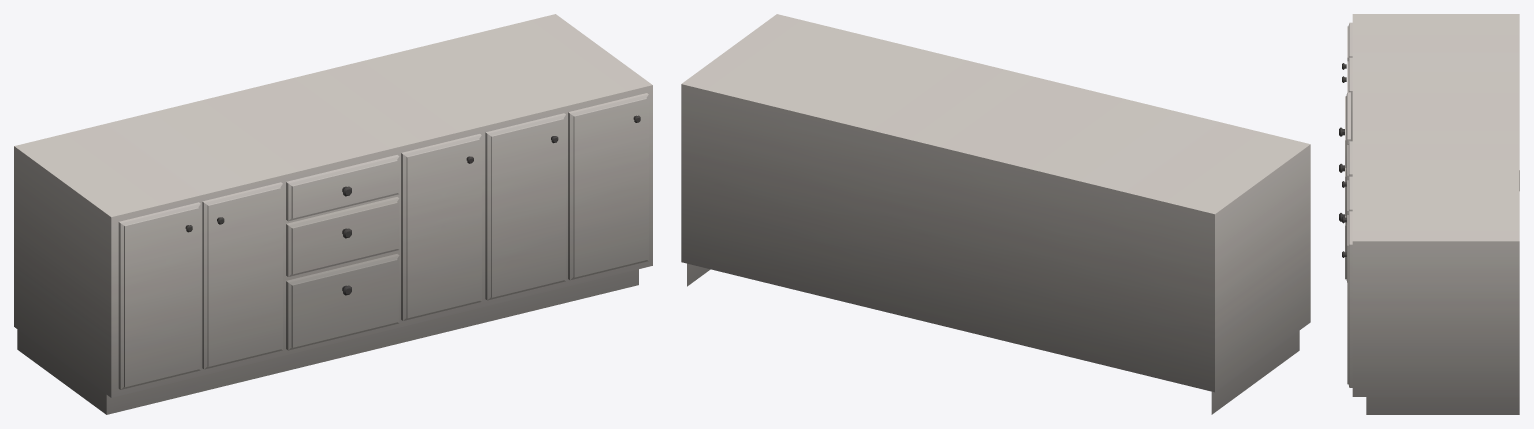
File: Unit_250cm.fbx
3 renders of one model, left to right at view 1: azimuth 30°, elevation 25°; view 2: azimuth 150°, elevation 25°; view 3: azimuth 270°, elevation 25°, orthographic. The views are drawn at different scales.
Parts seen in each view (by area): view 1: Unit_250cm; view 2: Unit_250cm; view 3: Unit_250cm.
Boxes of the visible parts, <box> form: Unit_250cm: <box>14,14,652,414</box>; Unit_250cm: <box>681,14,1310,414</box>; Unit_250cm: <box>1339,14,1519,414</box>.
Size of the model in its own units: 250 by 90 by 83.8.
